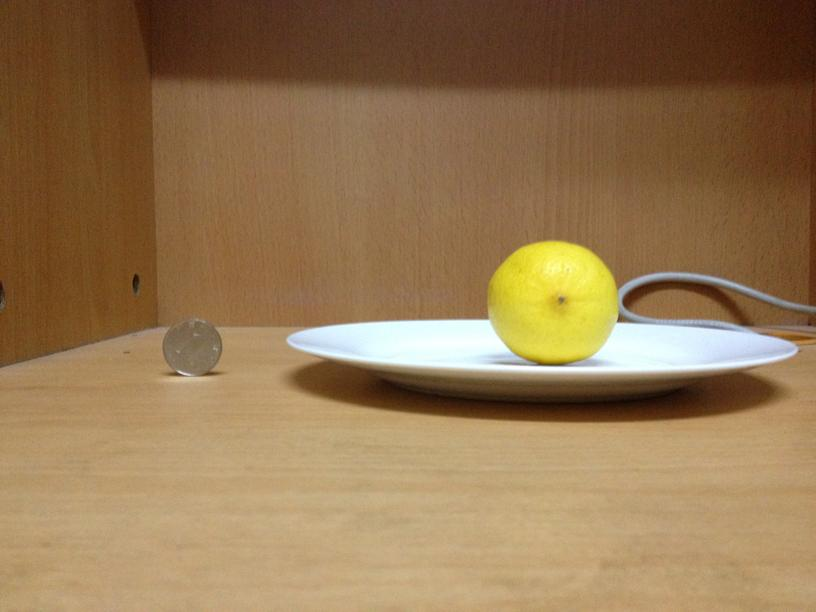coin: (162, 318, 223, 376)
lemon: (487, 240, 619, 364)
